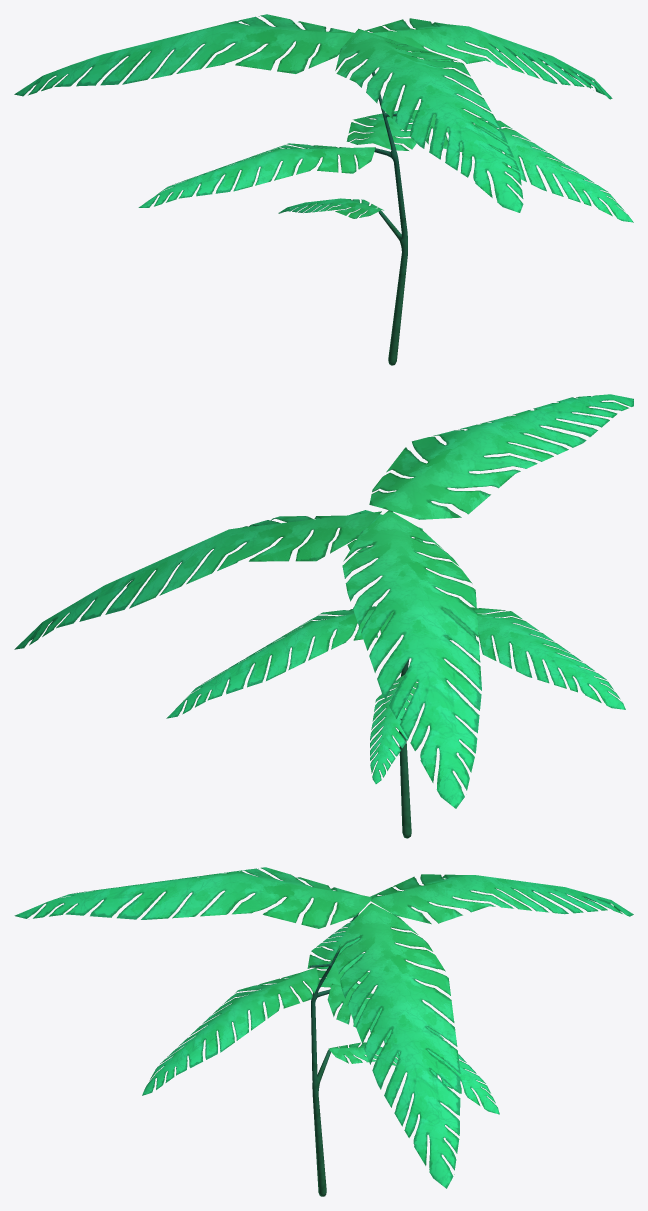
File: Fern.fbx
3 views of the same model, one above another, from view 1: azimuth 30°, elevation 25°; view 2: azimuth 150°, elevation 25°; view 3: azimuth 270°, elevation 25° (orthographic). The views are drawn at different scales.
Visible parts, largest first — view 1: Fern; view 2: Fern; view 3: Fern.
Part boxes in pixels (left/top/right/bottom): Fern: left=14, top=14, right=633, bottom=365; Fern: left=14, top=394, right=633, bottom=838; Fern: left=14, top=867, right=633, bottom=1196.
Bounding box in the file's own units: 147 × 92.18 × 166.
